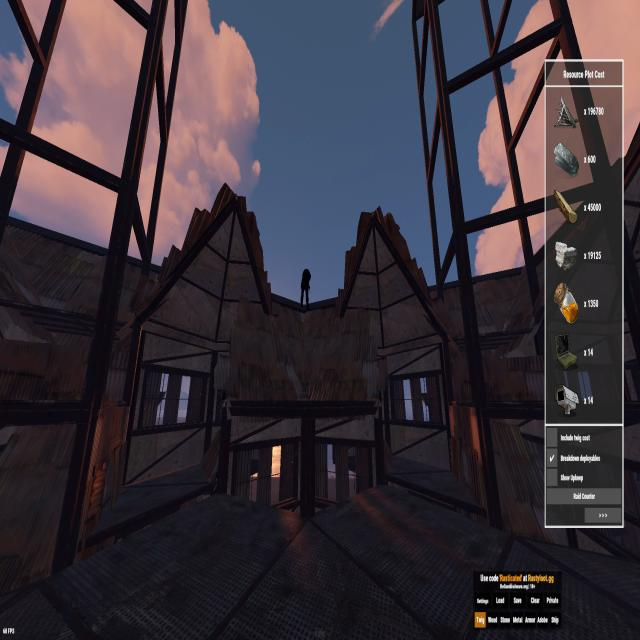Player: (298, 266, 312, 314)
